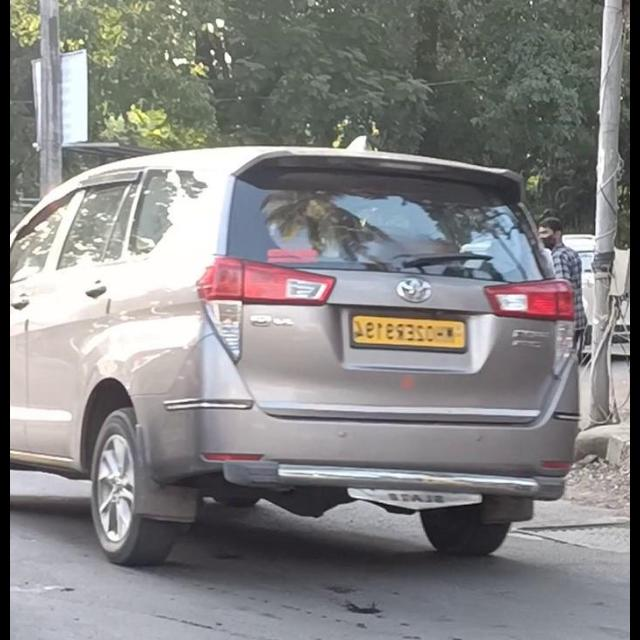number-plate: (347, 310, 474, 359)
vehicles: (9, 147, 577, 566)
